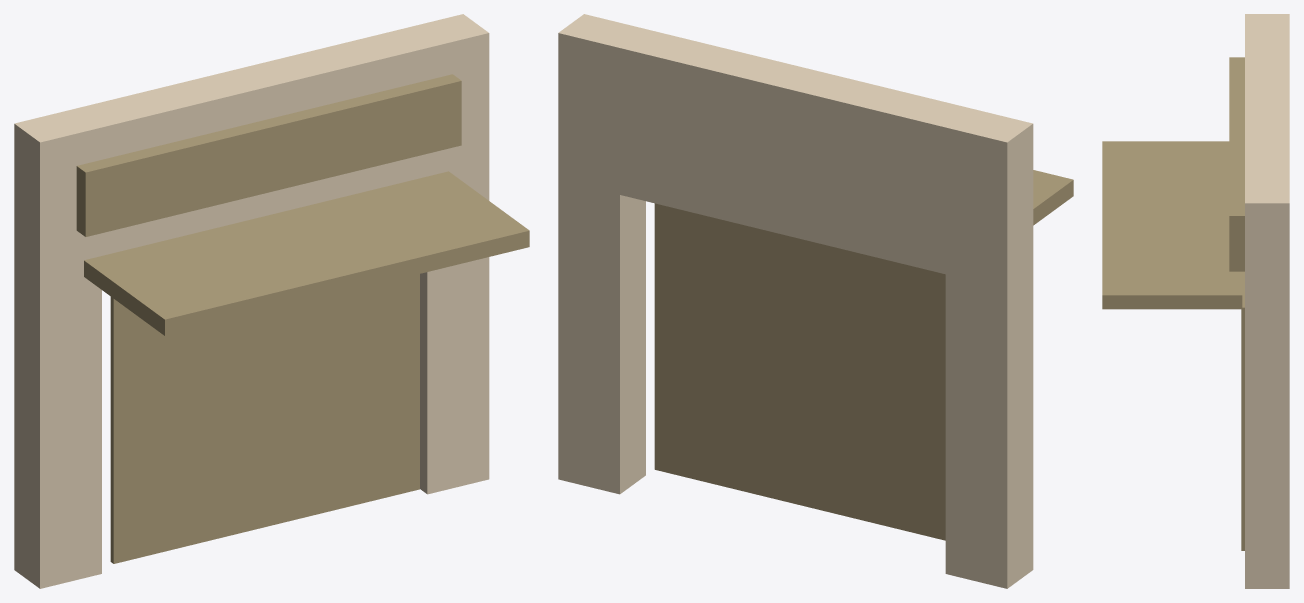
Rendered from bh_souq_shop_perfume_01_lod0.glb.
3 renders of one model, left to right at view 1: azimuth 30°, elevation 25°; view 2: azimuth 150°, elevation 25°; view 3: azimuth 270°, elevation 25°, orthographic. The views are drawn at different scales.
Parts seen in each view (by area): view 1: bh_souq_shop_perfume_01_infill, bh_souq_shop_perfume_01_left, bh_souq_shop_perfume_01_awning, bh_souq_shop_perfume_01_fascia, bh_souq_shop_perfume_01_top, bh_souq_shop_perfume_01_right; view 2: bh_souq_shop_perfume_01_infill, bh_souq_shop_perfume_01_top, bh_souq_shop_perfume_01_left, bh_souq_shop_perfume_01_right, bh_souq_shop_perfume_01_awning; view 3: bh_souq_shop_perfume_01_awning, bh_souq_shop_perfume_01_right, bh_souq_shop_perfume_01_top, bh_souq_shop_perfume_01_fascia, bh_souq_shop_perfume_01_left, bh_souq_shop_perfume_01_infill.
Part boxes in pixels (x1,y1,x2,y2): bh_souq_shop_perfume_01_infill: (110,274,419,563); bh_souq_shop_perfume_01_left: (14,108,101,588); bh_souq_shop_perfume_01_awning: (84,171,529,335); bh_souq_shop_perfume_01_fascia: (76,74,461,236); bh_souq_shop_perfume_01_top: (76,29,427,255); bh_souq_shop_perfume_01_right: (402,14,489,494); bh_souq_shop_perfume_01_infill: (654,203,945,540); bh_souq_shop_perfume_01_top: (620,29,970,274); bh_souq_shop_perfume_01_left: (945,108,1033,588); bh_souq_shop_perfume_01_right: (558,14,645,494); bh_souq_shop_perfume_01_awning: (1033,170,1073,225); bh_souq_shop_perfume_01_awning: (1102,141,1242,309); bh_souq_shop_perfume_01_right: (1245,177,1289,588); bh_souq_shop_perfume_01_top: (1245,40,1289,177); bh_souq_shop_perfume_01_fascia: (1229,57,1244,271); bh_souq_shop_perfume_01_left: (1245,14,1289,39); bh_souq_shop_perfume_01_infill: (1241,271,1244,550).
Bounding box in the file's own units: 4 × 3.8 × 1.68.
